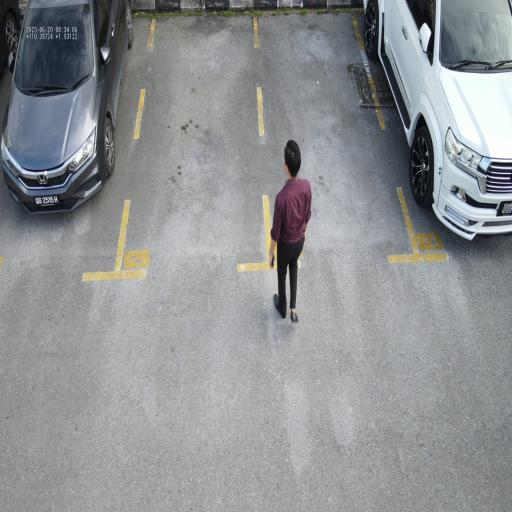Empty: (110, 4, 280, 286), (252, 10, 425, 276)
